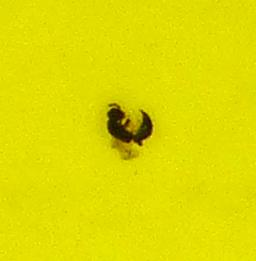Hymenoptera: (100, 100, 156, 161)
